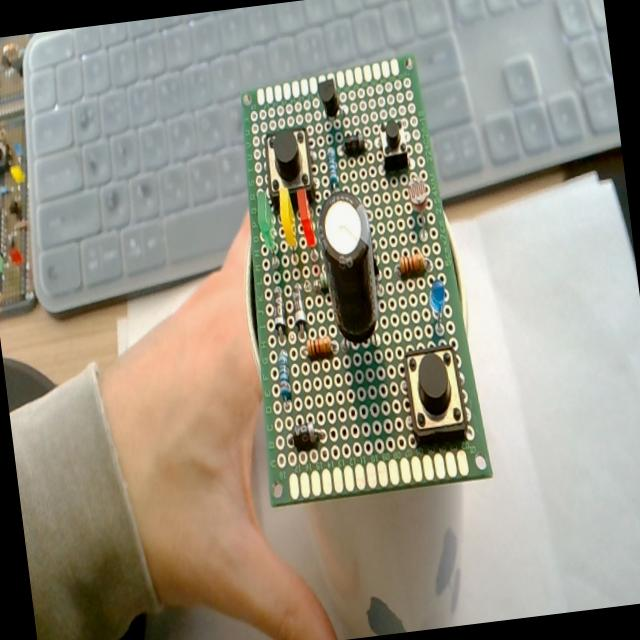Electrolytic capacitor: (317, 190, 388, 359)
cds: (406, 174, 436, 240)
diode: (290, 418, 329, 454), (290, 285, 308, 333), (270, 284, 288, 332), (343, 132, 367, 158)
led: (276, 185, 305, 294), (252, 189, 278, 259), (294, 186, 320, 246), (424, 277, 450, 335)
resistor: (396, 248, 426, 278), (274, 348, 292, 396), (311, 266, 338, 296), (306, 335, 332, 358), (326, 146, 340, 187)
switch: (399, 341, 470, 447), (262, 126, 316, 208), (378, 117, 408, 170)
transistor: (317, 78, 340, 118)
